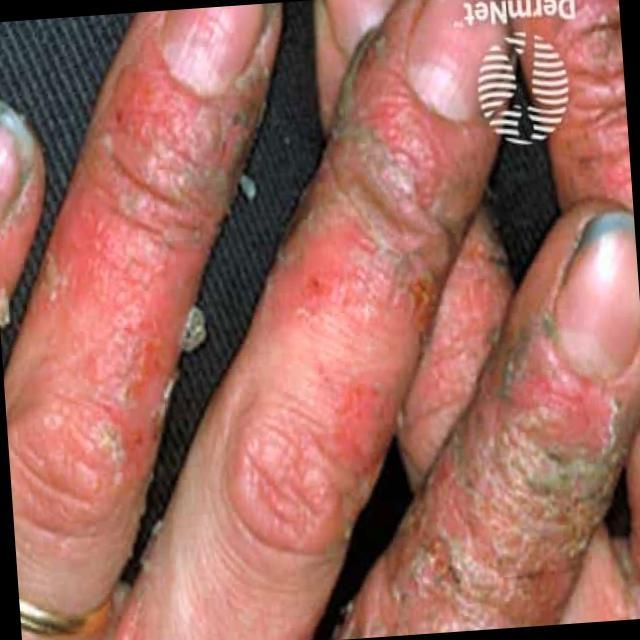Eczema: (22, 0, 294, 524), (241, 18, 489, 544), (393, 284, 640, 639)
